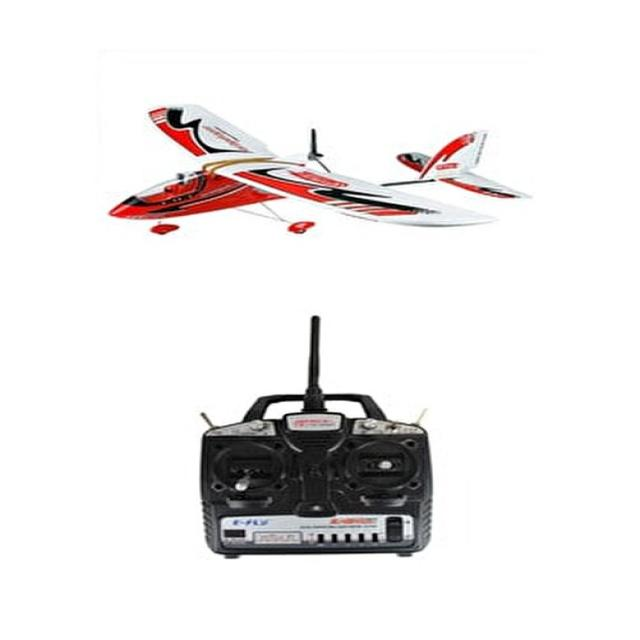iha: (110, 103, 529, 237)
